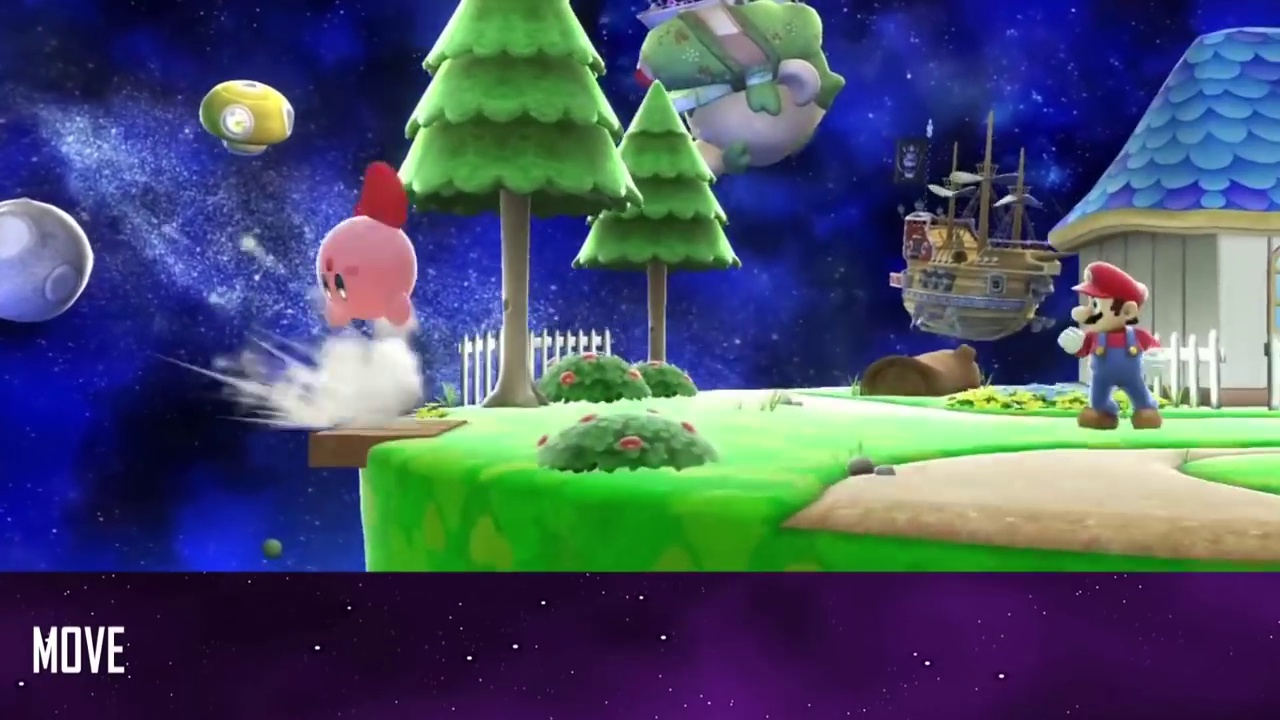Mario: (1055, 264, 1168, 430)
